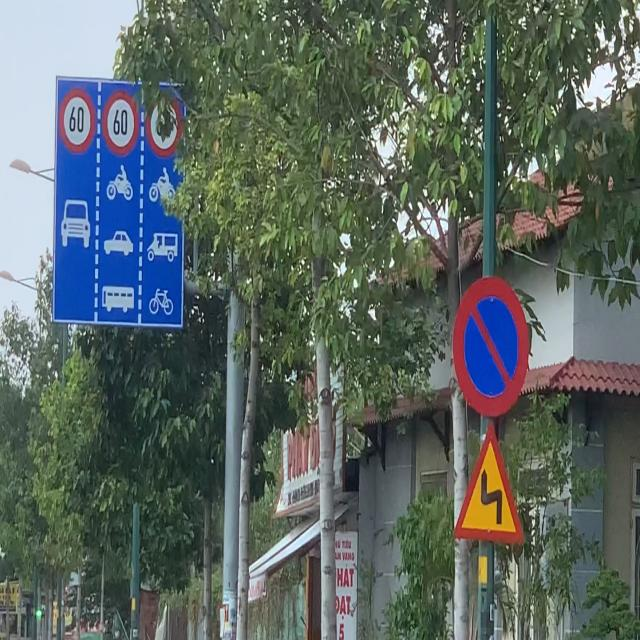Cam do: (446, 269, 530, 423)
Nguy hiem: (446, 417, 528, 554)
Toc do toi da: (58, 82, 97, 160), (104, 82, 142, 154)
